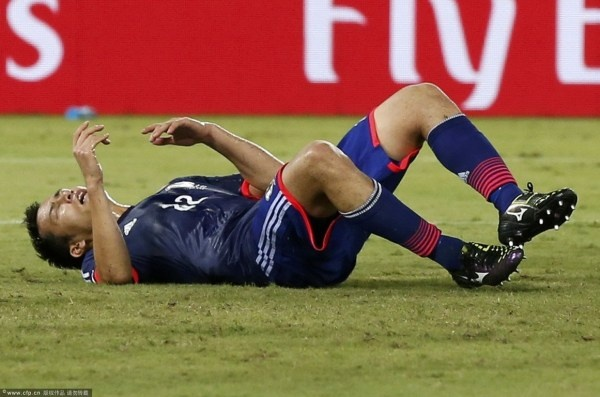falling: (29, 67, 564, 290)
